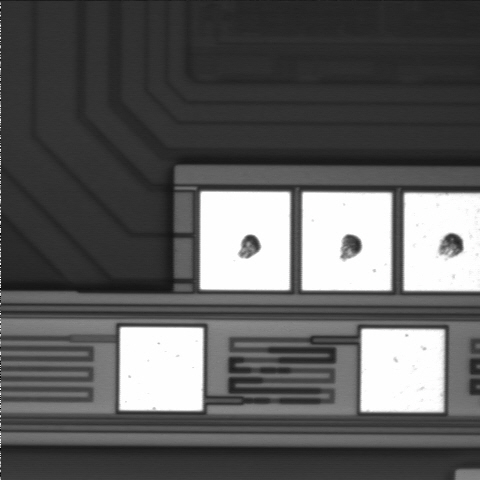pad: (200, 192, 290, 290), (302, 192, 391, 291), (120, 327, 203, 411), (361, 329, 444, 412)
